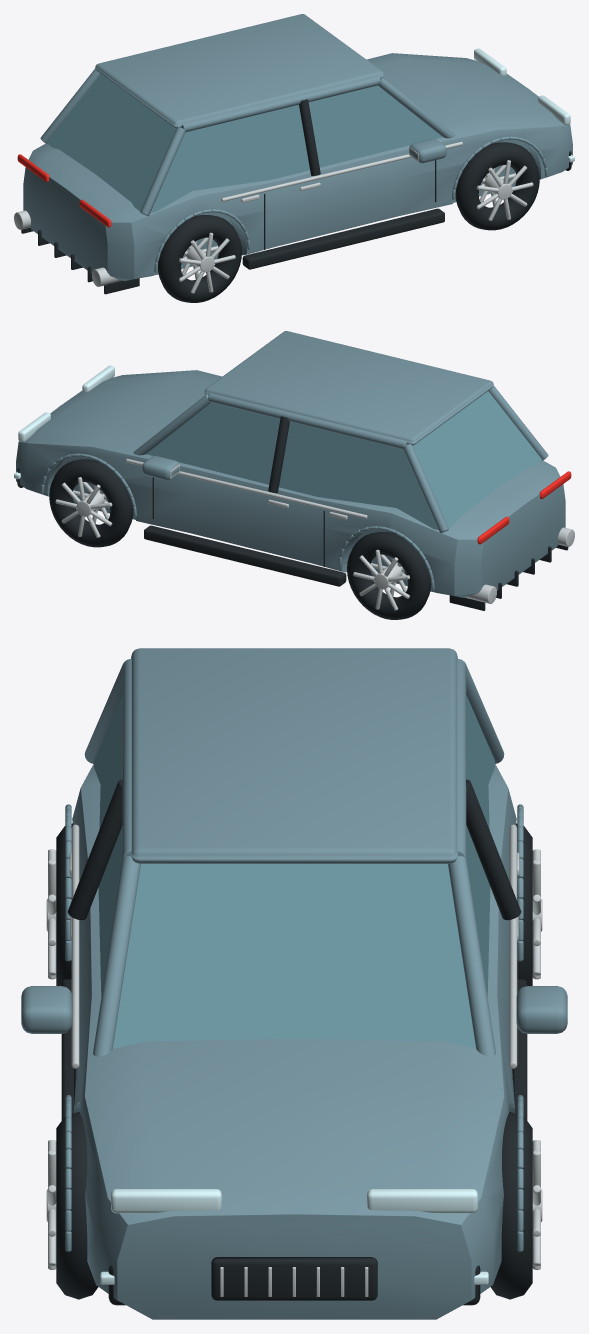
The model's file is CivicHatch.fbx.
3 renders of one model, top to bottom at view 1: azimuth 30°, elevation 25°; view 2: azimuth 150°, elevation 25°; view 3: azimuth 270°, elevation 25°, orthographic. The views are drawn at different scales.
Parts seen in each view (by area): view 1: BodyPaint, Glazing, TrimRubber, TrimRubber.002, TrimRubber.001, BrushedAlloy, BrushedAlloy.002, BrushedAlloy.001, Headlamp, Taillamp; view 2: BodyPaint, Glazing, TrimRubber, TrimRubber.004, TrimRubber.003, BrushedAlloy, BrushedAlloy.004, BrushedAlloy.003, Headlamp, Taillamp; view 3: BodyPaint, Glazing, TrimRubber, Headlamp, TrimRubber.002, TrimRubber.004, BrushedAlloy, TrimRubber.001, TrimRubber.003, BrushedAlloy.001, BrushedAlloy.003, BrushedAlloy.002 (+1 smaller).
Boxes of the visible parts, bbox=[...] form: BodyPaint: bbox=[23, 14, 572, 280]; Glazing: bbox=[46, 74, 442, 212]; TrimRubber: bbox=[21, 99, 571, 294]; TrimRubber.002: bbox=[455, 142, 539, 230]; TrimRubber.001: bbox=[157, 215, 241, 302]; BrushedAlloy: bbox=[14, 141, 462, 286]; BrushedAlloy.002: bbox=[476, 160, 533, 220]; BrushedAlloy.001: bbox=[179, 232, 235, 293]; Headlamp: bbox=[474, 48, 574, 162]; Taillamp: bbox=[17, 154, 111, 227]; BodyPaint: bbox=[16, 331, 565, 597]; Glazing: bbox=[146, 391, 542, 529]; TrimRubber: bbox=[17, 416, 568, 610]; TrimRubber.004: bbox=[49, 459, 133, 547]; TrimRubber.003: bbox=[347, 532, 431, 619]; BrushedAlloy: bbox=[126, 458, 574, 603]; BrushedAlloy.004: bbox=[55, 477, 112, 537]; BrushedAlloy.003: bbox=[353, 549, 409, 610]; Headlamp: bbox=[14, 365, 114, 479]; Taillamp: bbox=[477, 471, 571, 544]; BodyPaint: bbox=[21, 648, 567, 1319]; Glazing: bbox=[94, 695, 494, 1048]; TrimRubber: bbox=[61, 779, 527, 1305]; Headlamp: bbox=[100, 1189, 488, 1284]; TrimRubber.002: bbox=[56, 1112, 98, 1299]; TrimRubber.004: bbox=[490, 1112, 532, 1299]; BrushedAlloy: bbox=[69, 824, 519, 1296]; TrimRubber.001: bbox=[56, 823, 72, 985]; TrimRubber.003: bbox=[516, 823, 532, 985]; BrushedAlloy.001: bbox=[46, 849, 56, 979]; BrushedAlloy.003: bbox=[532, 849, 542, 979]; BrushedAlloy.002: bbox=[46, 1140, 56, 1269].
Size of the model in its own units: 516 by 178 by 256.
